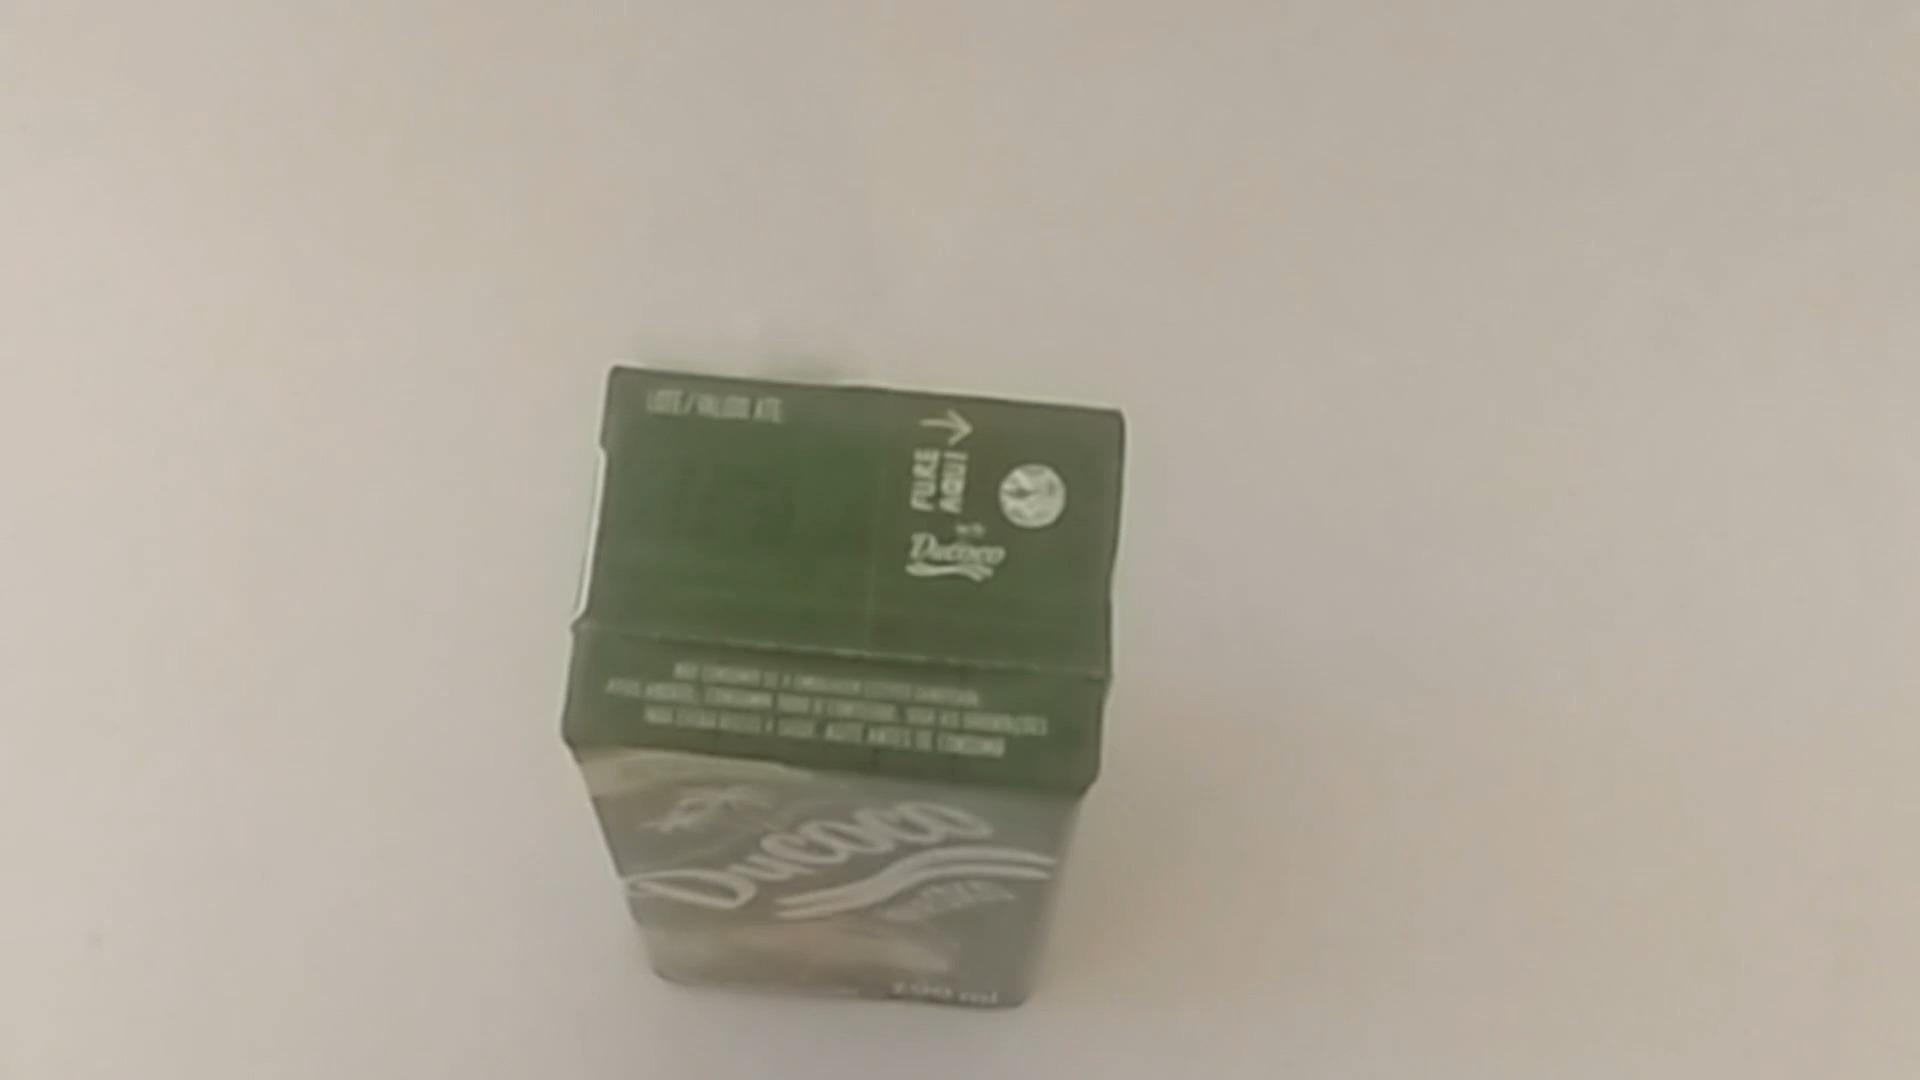coco: (562, 367, 1125, 1018)
